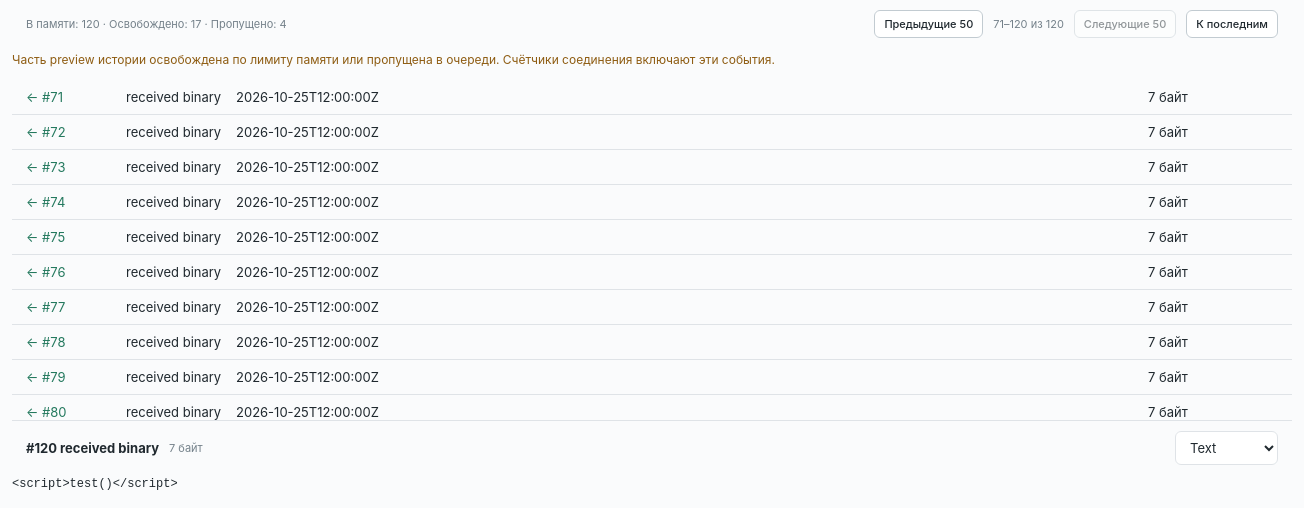
Test: WebSocket UI › renders fifty events at a time, exposes losses, selects individual binary hex/base64 and preserves text safely
Expected: the text "В памяти: 120 · Освобождено: 17 · Пропущено: 4" is shown, [26, 15, 287, 33]
Click the button "Предыдущие 50" at [929, 24], box [874, 10, 983, 38]
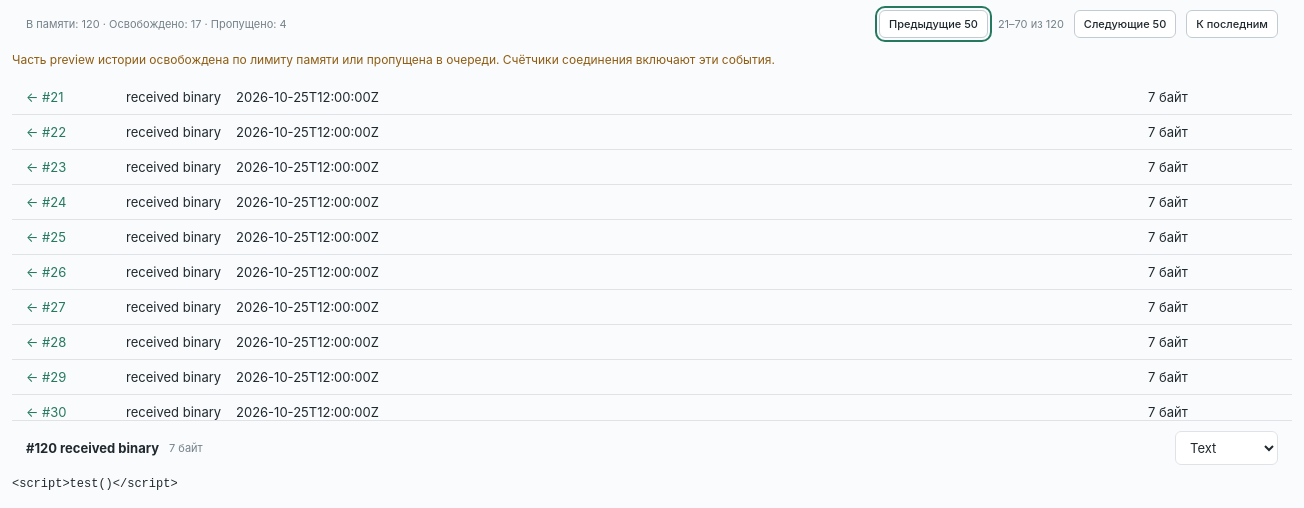
Click the button with aria-label "← #21 received binary 7 байт" at [153, 97], box [12, 80, 1292, 115]
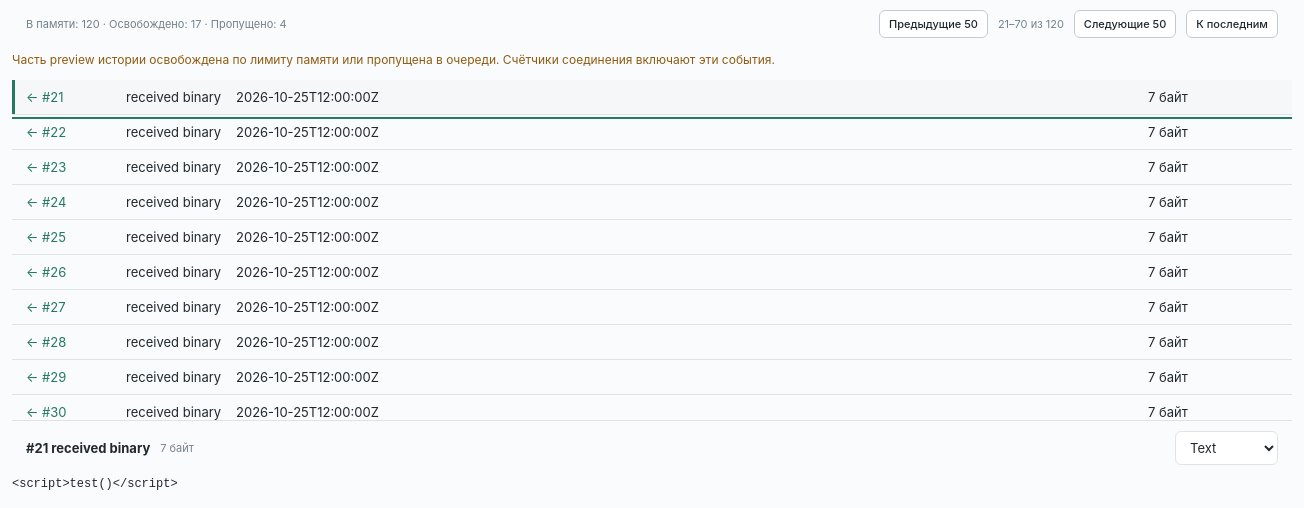
Expected: the text named "Сообщение WebSocket" reads "<script>test()</script>", [12, 477, 178, 491]
Select "Hex" in the dropdown named "Вид сообщения WebSocket" at [1226, 448], box [1175, 431, 1278, 465]
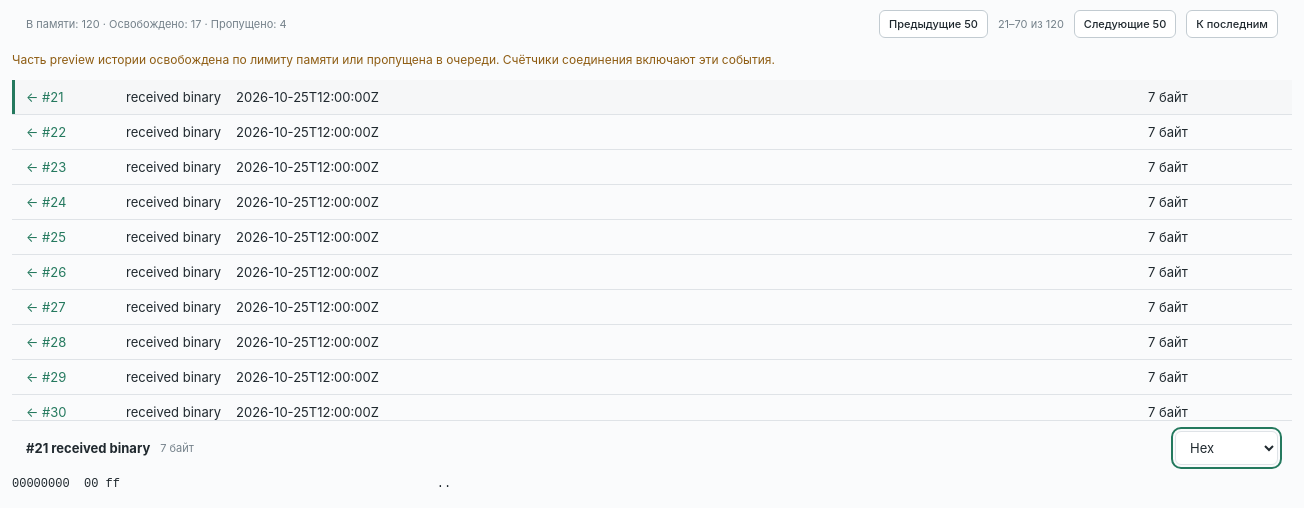
Expected: the text named "Сообщение WebSocket" shows "00 ff", [12, 477, 451, 491]
Select "Base64" in the dropdown named "Вид сообщения WebSocket" at [1226, 448], box [1175, 431, 1278, 465]
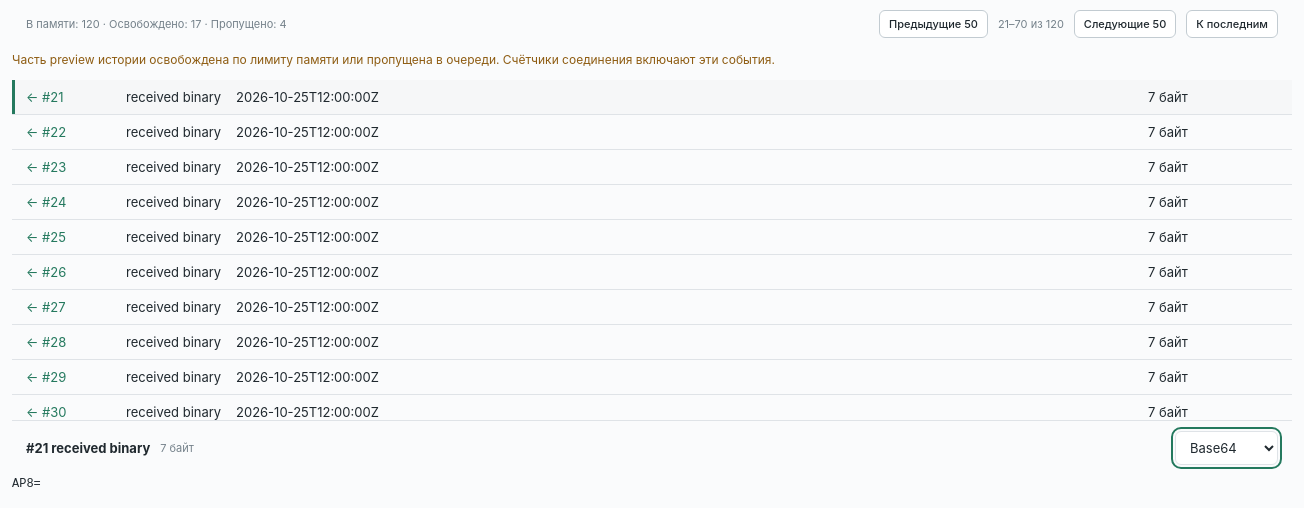
Expected: the text named "Сообщение WebSocket" reads "AP8=", [12, 477, 41, 491]
Click the button "К последним" at [1232, 24], box [1186, 10, 1278, 38]
(page scrolled)
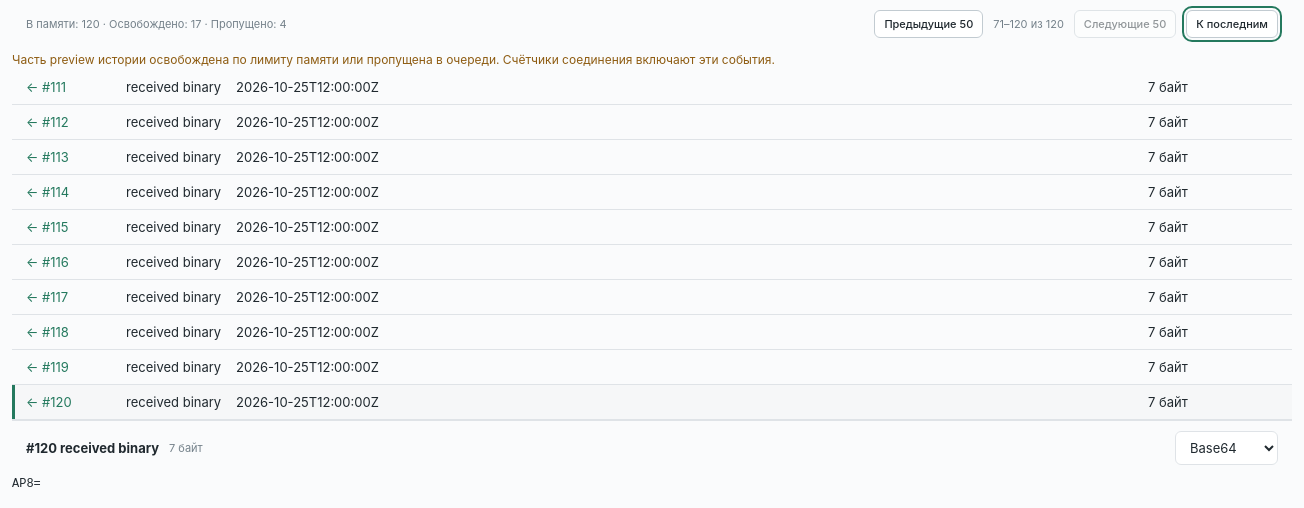
Expected: the button with aria-label "← #120 received binary 7 байт" is shown, [12, 385, 1292, 420]
